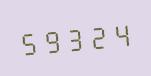five: (18, 25, 40, 59)
four: (110, 17, 132, 50)
nine: (41, 23, 63, 56)
three: (64, 21, 86, 54)
two: (87, 19, 109, 52)
